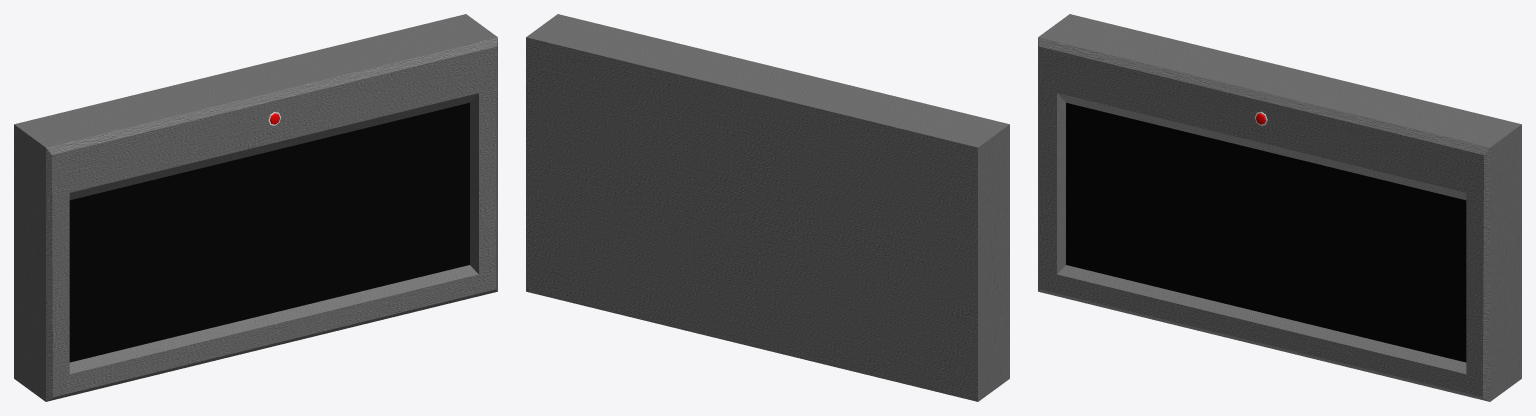
File: M_Timer.FBX
The picture shows the model from 3 angles, left to right: view 1: azimuth 30°, elevation 25°; view 2: azimuth 150°, elevation 25°; view 3: azimuth 330°, elevation 25°; orthographic projection.
Parts seen in each view (by area): view 1: Timer; view 2: Timer; view 3: Timer.
Part boxes in pixels (x1,y1,x2,y2): Timer: (14, 14, 497, 401); Timer: (526, 14, 1009, 401); Timer: (1038, 14, 1521, 401).
Size of the model in its own units: 74.87 by 40.25 by 10.45.
